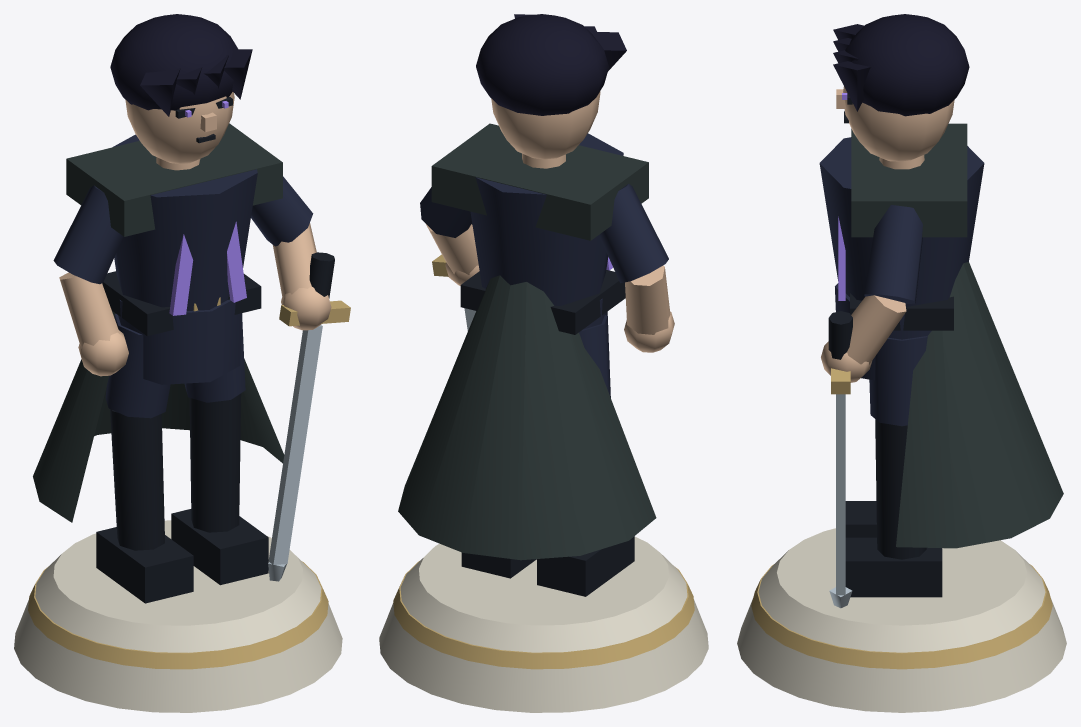
Rendered from sung-jinwoo.glb.
3 views of the same model, side by side, from view 1: azimuth 30°, elevation 25°; view 2: azimuth 150°, elevation 25°; view 3: azimuth 270°, elevation 25° (orthographic).
Parts seen in each view (by area): view 1: Placeholder Sung Jin-Woo; view 2: Placeholder Sung Jin-Woo; view 3: Placeholder Sung Jin-Woo.
Boxes of the visible parts, x1=… form: Placeholder Sung Jin-Woo: x1=14, y1=14, x2=350, y2=712; Placeholder Sung Jin-Woo: x1=379, y1=14, x2=708, y2=712; Placeholder Sung Jin-Woo: x1=737, y1=14, x2=1066, y2=712.
Size of the model in its own units: 0.54 by 1.12 by 0.54.
